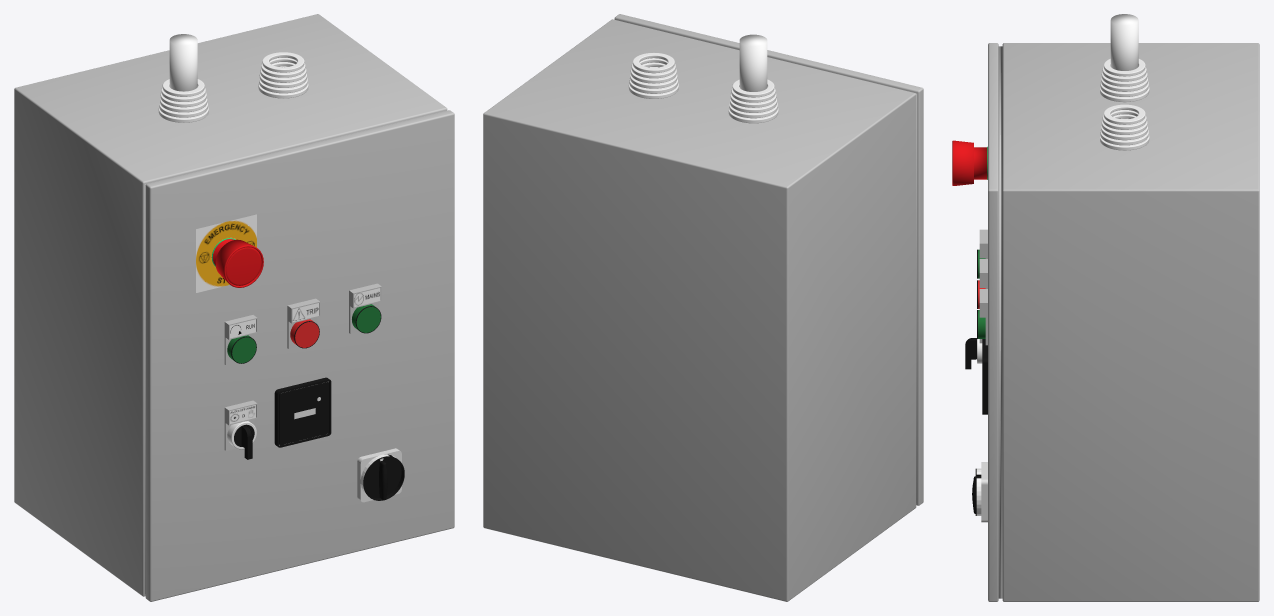
Rendered from Quadro Elettrico.fbx.
3 renders of one model, left to right at view 1: azimuth 30°, elevation 25°; view 2: azimuth 150°, elevation 25°; view 3: azimuth 270°, elevation 25°, orthographic.
Visible parts, largest first — view 1: Cube, Cube.008, Emergency1, Cylinder.014, Cylinder.006, Cylinder.021, Cube.005, Cube.004, Cube.001, Cube.006, Cylinder.016, Cylinder.023 (+2 smaller); view 2: Cube, Cylinder.006; view 3: Cube, Cylinder.006, Cylinder.014, Cylinder.008, Cylinder, Cube.008, Cube.003.
Part boxes in pixels (x1,y1,x2,y2): Cube: [14, 14, 454, 601]; Cube.008: [274, 377, 331, 447]; Emergency1: [196, 214, 256, 292]; Cylinder.014: [215, 239, 263, 287]; Cylinder.006: [169, 34, 197, 91]; Cylinder.021: [360, 454, 404, 500]; Cube.005: [224, 400, 257, 450]; Cube.004: [287, 298, 320, 348]; Cube.001: [224, 315, 257, 364]; Cube.006: [349, 283, 381, 333]; Cylinder.016: [352, 304, 381, 333]; Cylinder.023: [290, 319, 319, 348]; Cube: [483, 14, 923, 601]; Cylinder.006: [739, 34, 767, 91]; Cube: [988, 43, 1259, 601]; Cylinder.006: [1110, 14, 1138, 70]; Cylinder.014: [952, 140, 973, 185]; Cylinder.008: [1104, 104, 1145, 124]; Cylinder: [974, 146, 987, 179]; Cube.008: [982, 339, 987, 414]; Cube.003: [981, 462, 987, 522].
Bounding box in the file's own units: 120 × 183 × 105.
